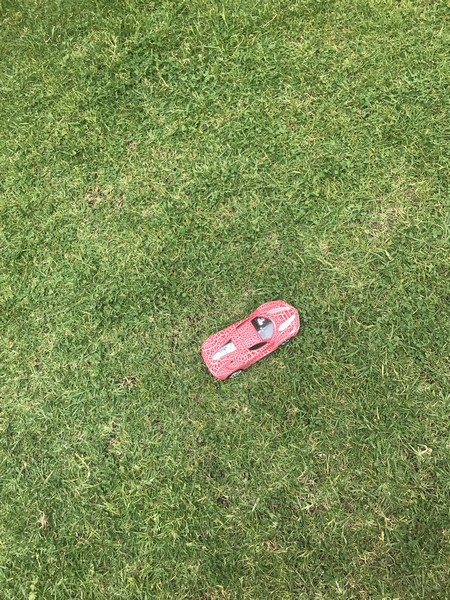RC: (199, 299, 302, 380)
